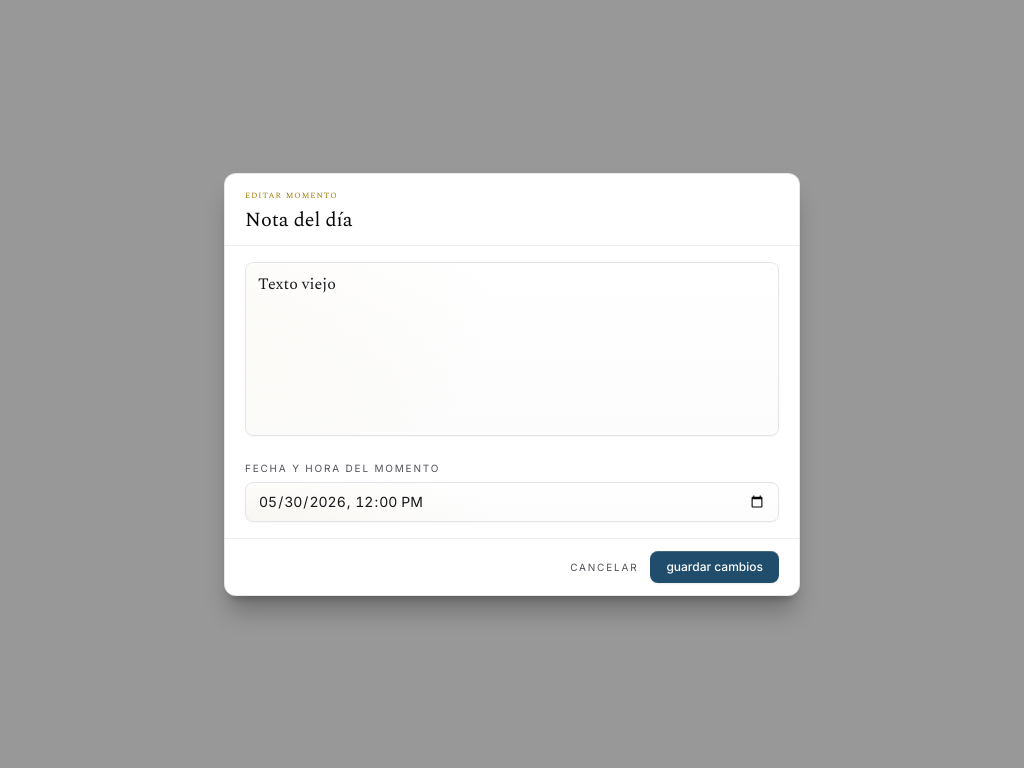
Test case: <NotaEditModal /> › recorta el texto y guarda payload con fecha capturada
Replace the text in the text box with placeholder "Una observación, una idea, un recuerdo del día…" with "  Texto nuevo  ": (512, 348) [245,262,779,436]
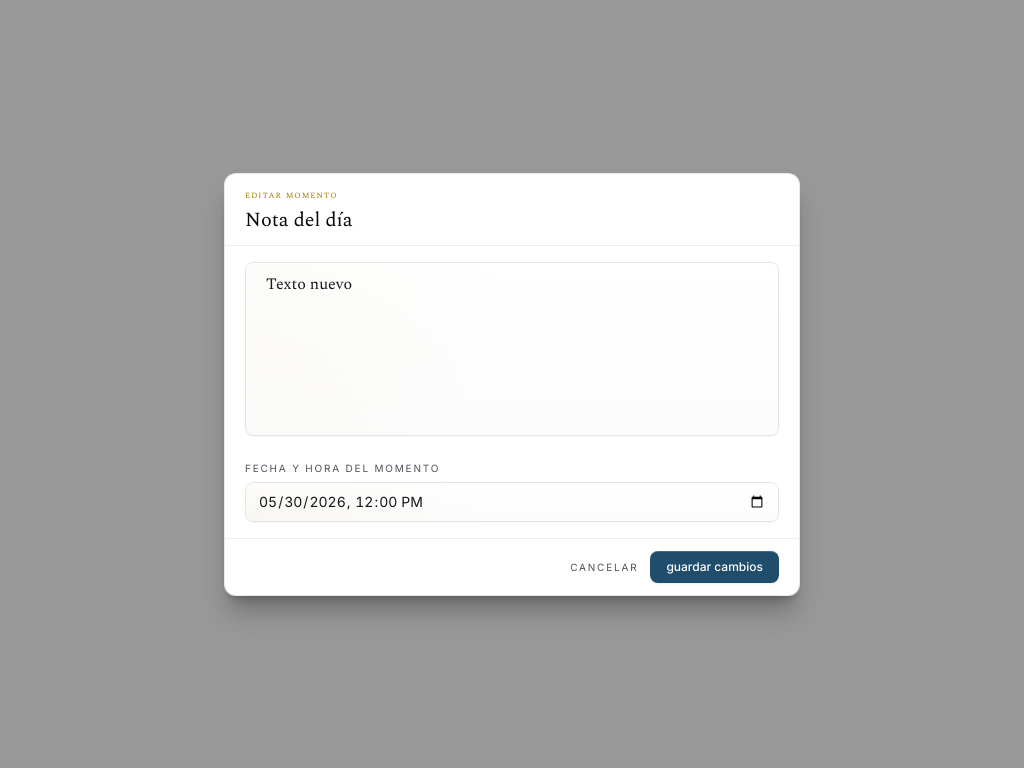
Replace the text in the field labelled "fecha y hora del momento" with "2026-05-31T10:45": (512, 502) [245,482,779,522]
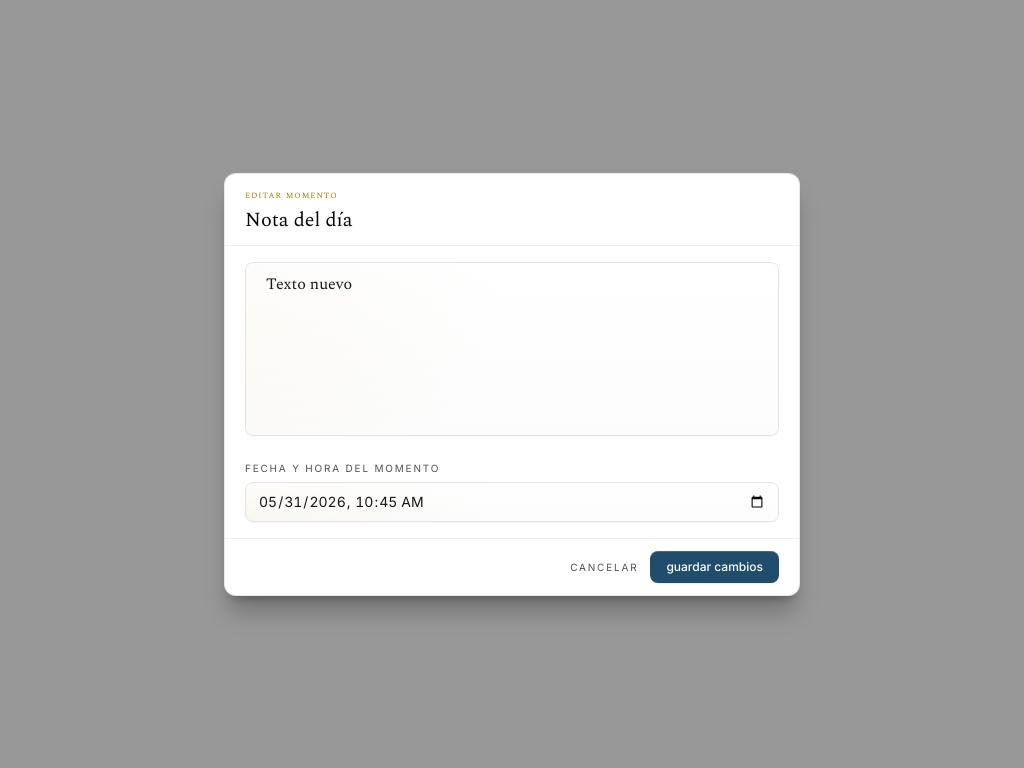
Click the button "guardar cambios": (715, 566) [650,550,779,582]
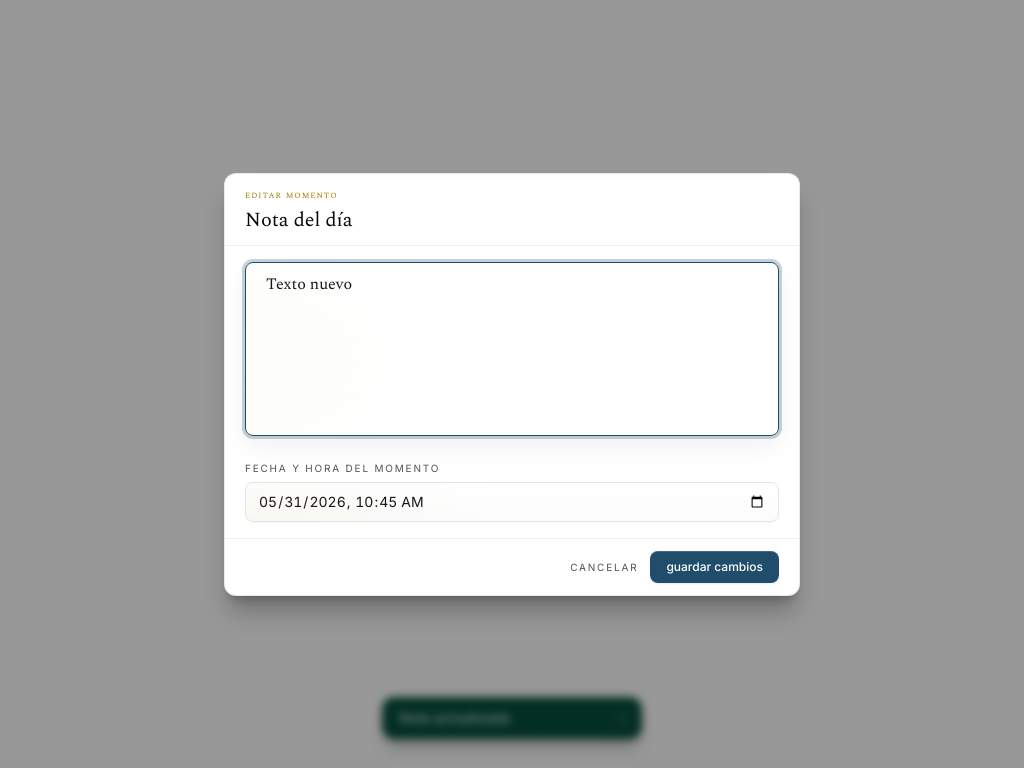
Result: the text "Nota actualizada" is shown at [399,709,510,726]
